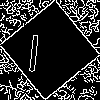I: (25, 25, 44, 72)
